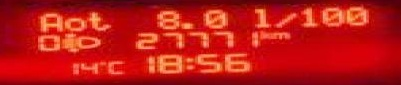-: (176, 21, 192, 28)
0: (201, 8, 228, 28), (317, 6, 344, 25), (341, 5, 366, 25), (32, 34, 57, 51)
1: (298, 5, 314, 26), (68, 60, 79, 74), (144, 54, 152, 73), (247, 29, 255, 46)
2: (132, 31, 157, 48)
4: (78, 61, 97, 74)
5: (192, 53, 219, 73)
6: (222, 51, 249, 71)
7: (184, 30, 208, 47), (160, 30, 181, 47), (211, 30, 233, 46)
8: (154, 53, 181, 74), (154, 9, 179, 29)
X: (84, 10, 111, 31), (35, 11, 62, 31), (268, 9, 295, 26), (252, 5, 268, 27), (62, 16, 84, 31), (105, 59, 122, 74), (268, 30, 290, 39), (181, 56, 192, 70), (257, 30, 268, 37)
